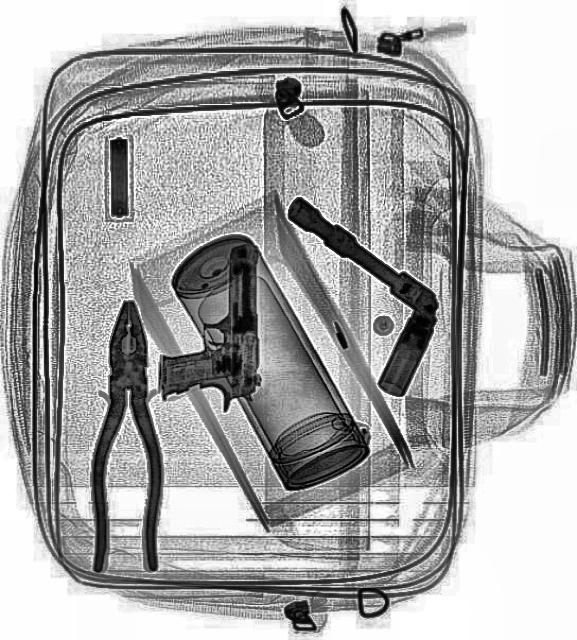Gun: (158, 242, 258, 412)
Pliers: (90, 298, 160, 572)
